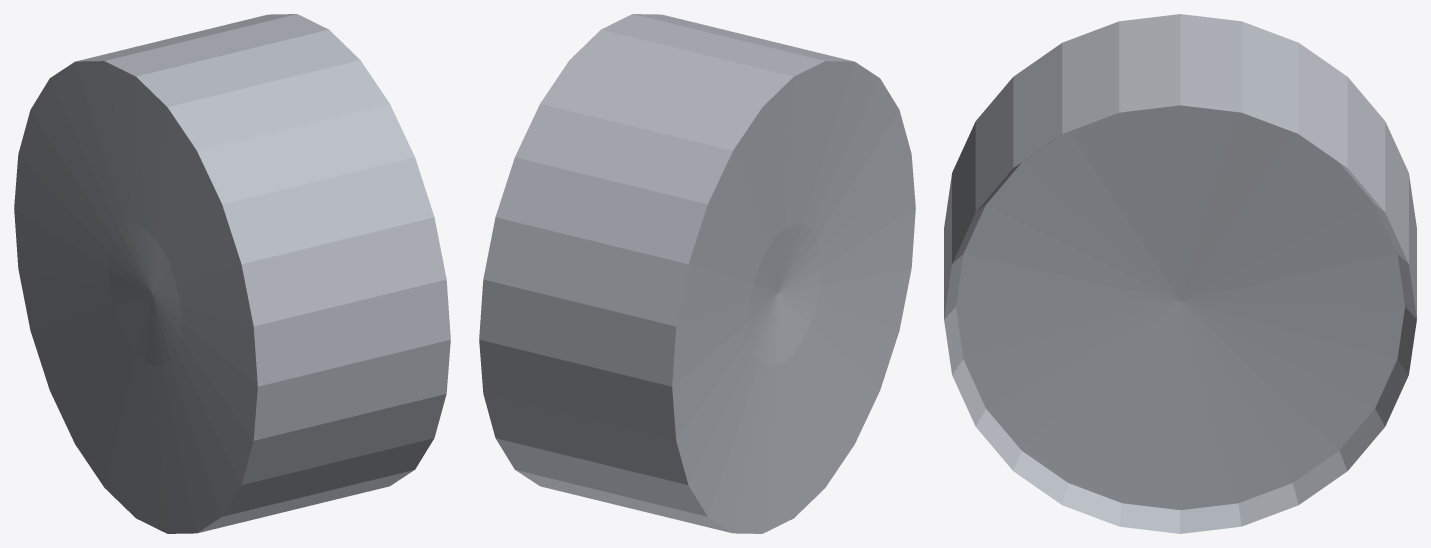
File: wheel_FL.glb
The picture shows the model from 3 angles, left to right: view 1: azimuth 30°, elevation 25°; view 2: azimuth 150°, elevation 25°; view 3: azimuth 270°, elevation 25°; orthographic projection. The views are drawn at different scales.
Visible parts, largest first — view 1: wheel_FL; view 2: wheel_FL; view 3: wheel_FL.
Part boxes in pixels (box(x1,y1,x2,y2)): wheel_FL: box(14, 14, 450, 533); wheel_FL: box(479, 14, 915, 533); wheel_FL: box(944, 14, 1416, 533).
Bounding box in the file's own units: 0.1974 × 0.4318 × 0.4318.
Materials: 1 (1 with a texture image).
